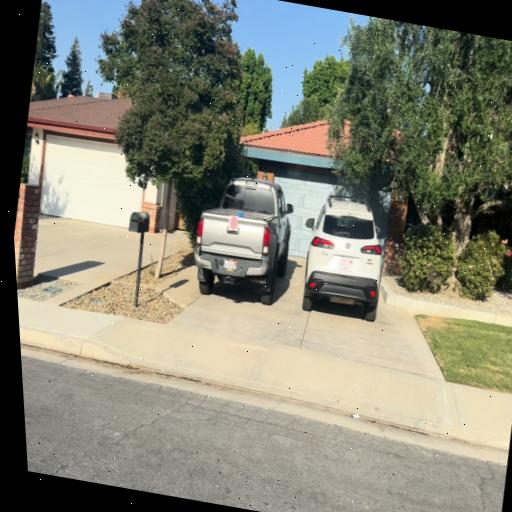bullseye: (229, 215, 238, 231)
